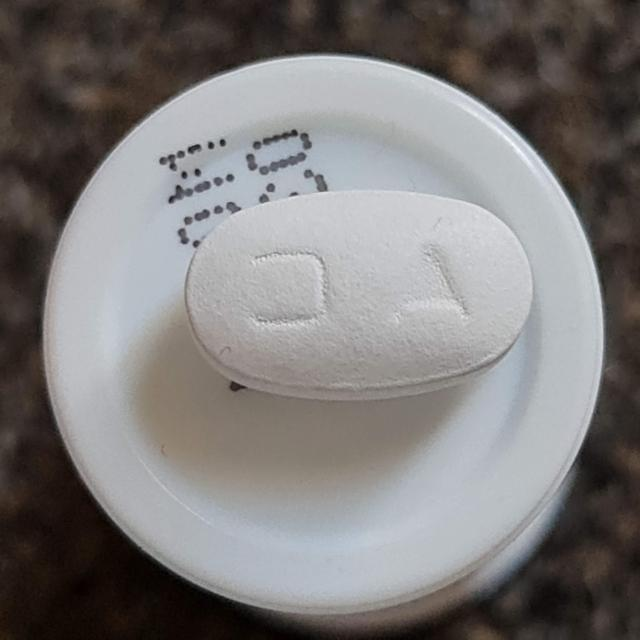pill: (188, 190, 530, 392)
